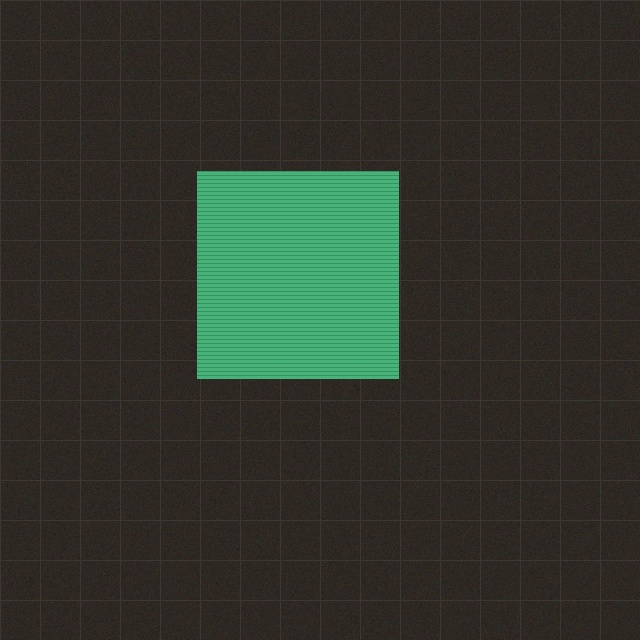normal: (197, 171, 398, 378)
